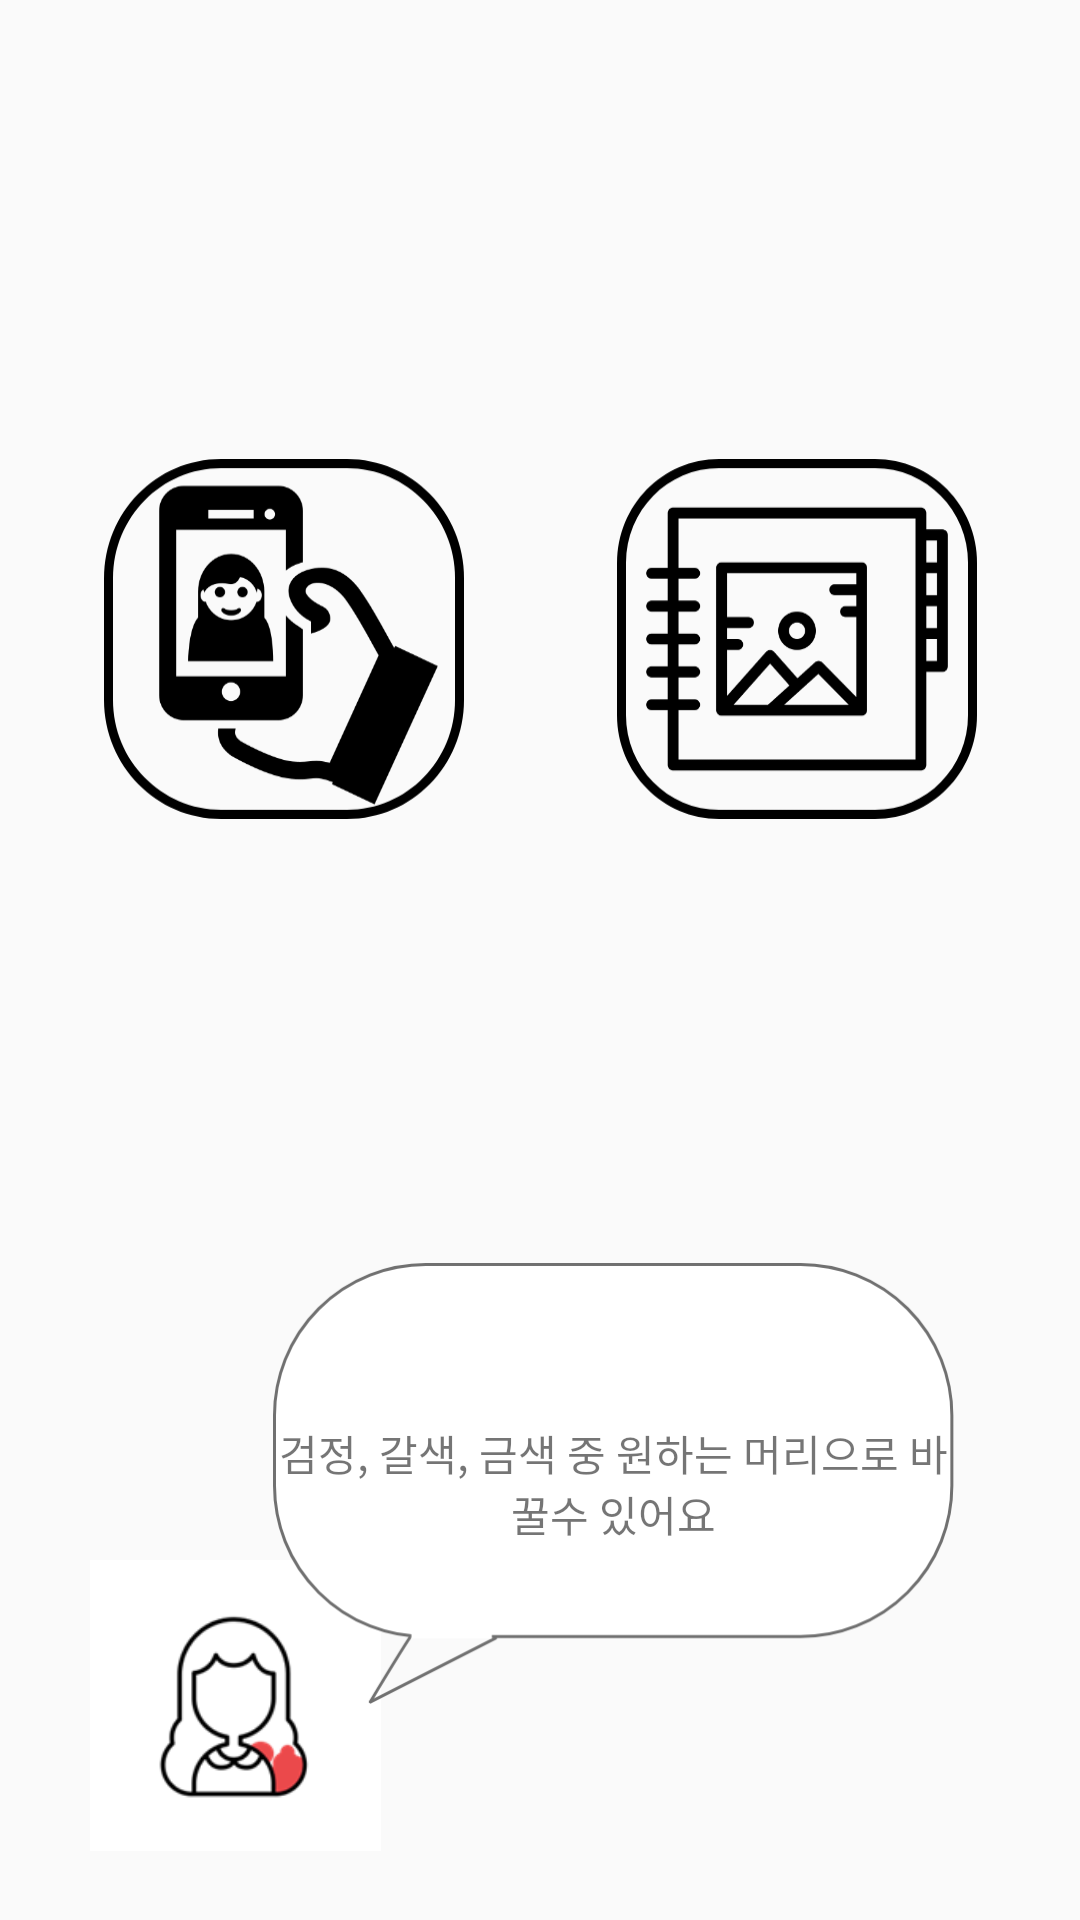

Icons on this 1080 × 1920 Android screen, each with its box as (x1, y1, x2, y2):
album: (617, 459, 977, 819)
selfie: (104, 459, 464, 819)
